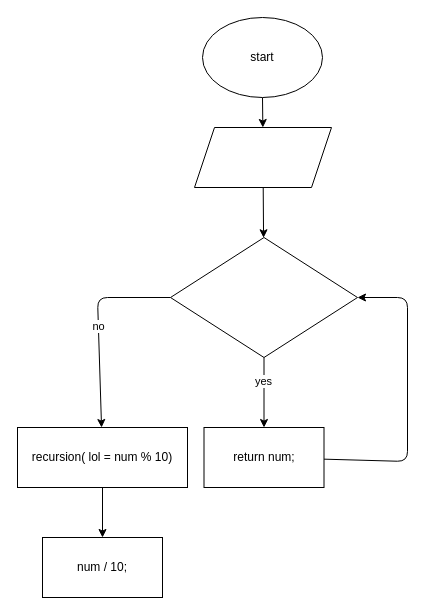
This 433x615 diagram has some shape labels left out. Here are the shapes that lost their labels. From the top down, the box of each, then its label:
(194, 126, 332, 188): int num = int.Parse
(170, 236, 358, 358): if(0 != num / 10 | 0 == num % 10)
